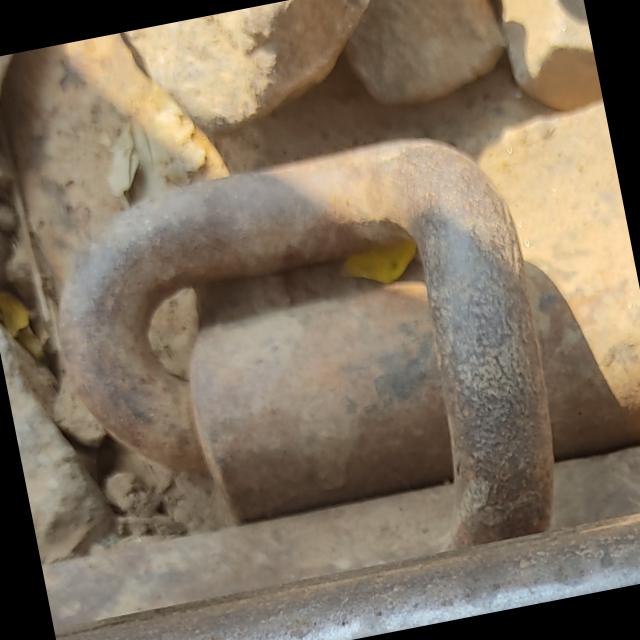track_bolt: (21, 112, 584, 621)
